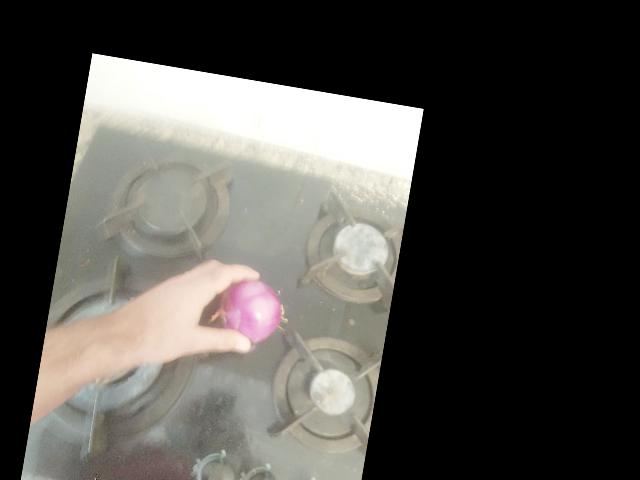onion: (254, 194, 337, 271)
